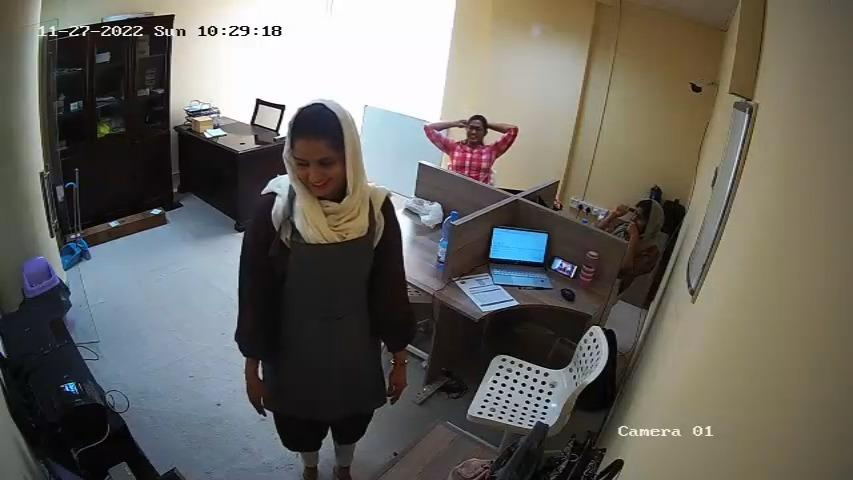apron: (276, 189, 380, 413)
